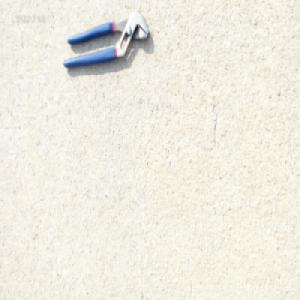Pliers: (61, 9, 149, 70)
